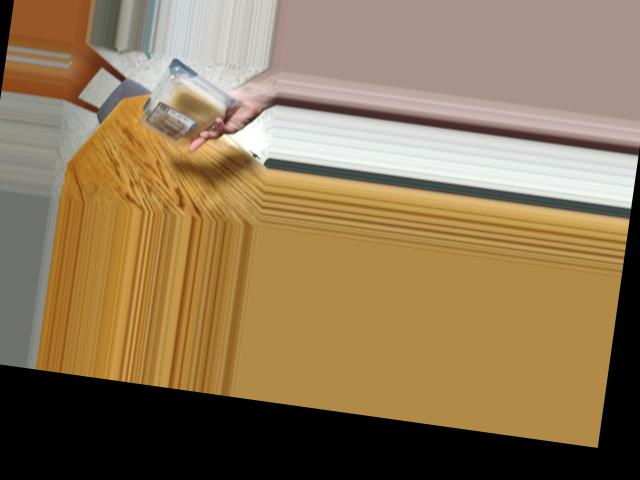cheese: (138, 61, 241, 139)
